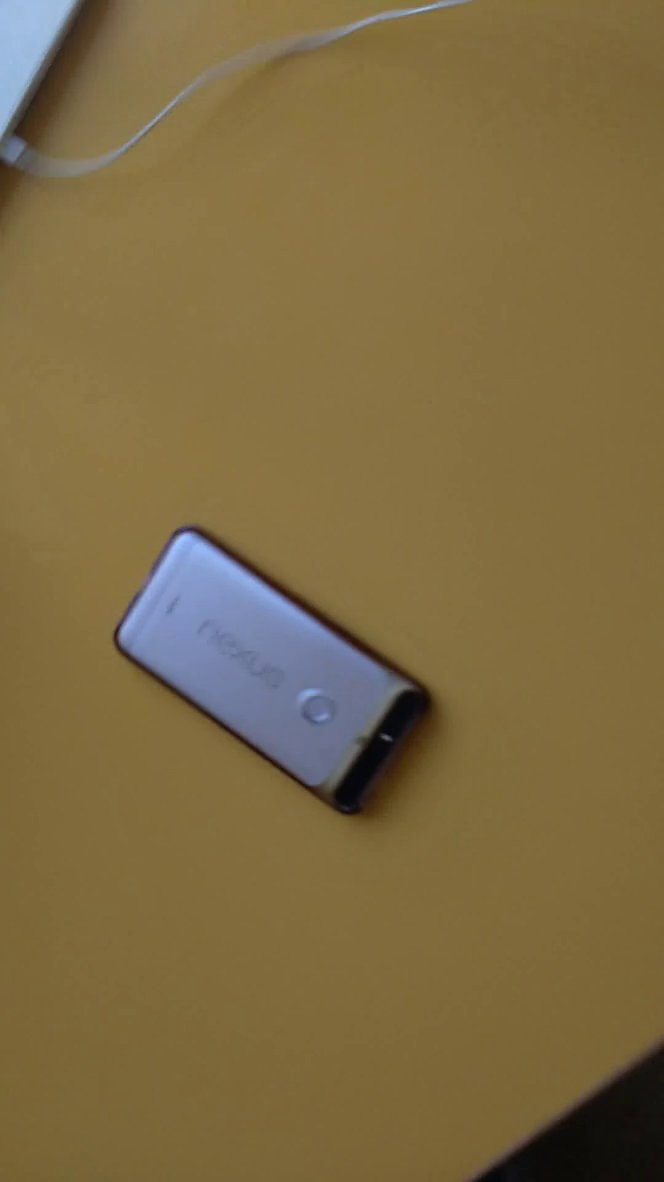phone: (102, 509, 465, 835)
